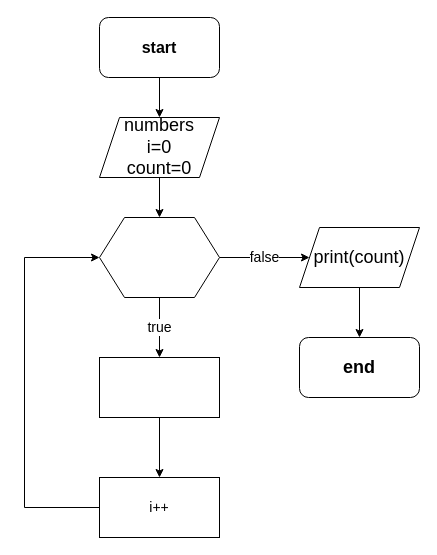
The diagram is 437 pixels wide and 555 high, and some of its shapes have lost their labels. Here are the shapes that lost their labels. From the top down, the centre of each, then its label:
At [159,257]: "i<number.length".
At [159,387]: "count++".
